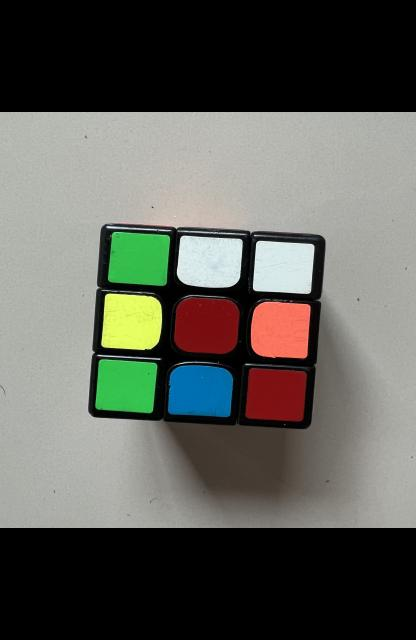Blue: (167, 366, 232, 418)
Green: (94, 359, 157, 413), (107, 232, 169, 286)
Orange: (249, 302, 309, 359)
Red: (173, 297, 239, 354), (244, 368, 306, 422)
White: (176, 236, 242, 288), (252, 241, 313, 294)
Yellow: (100, 293, 162, 350)
